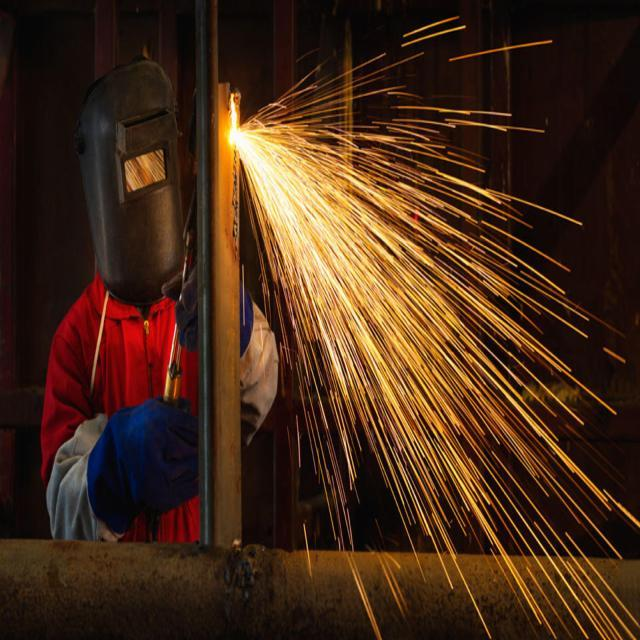with_helmet: (76, 57, 184, 304)
